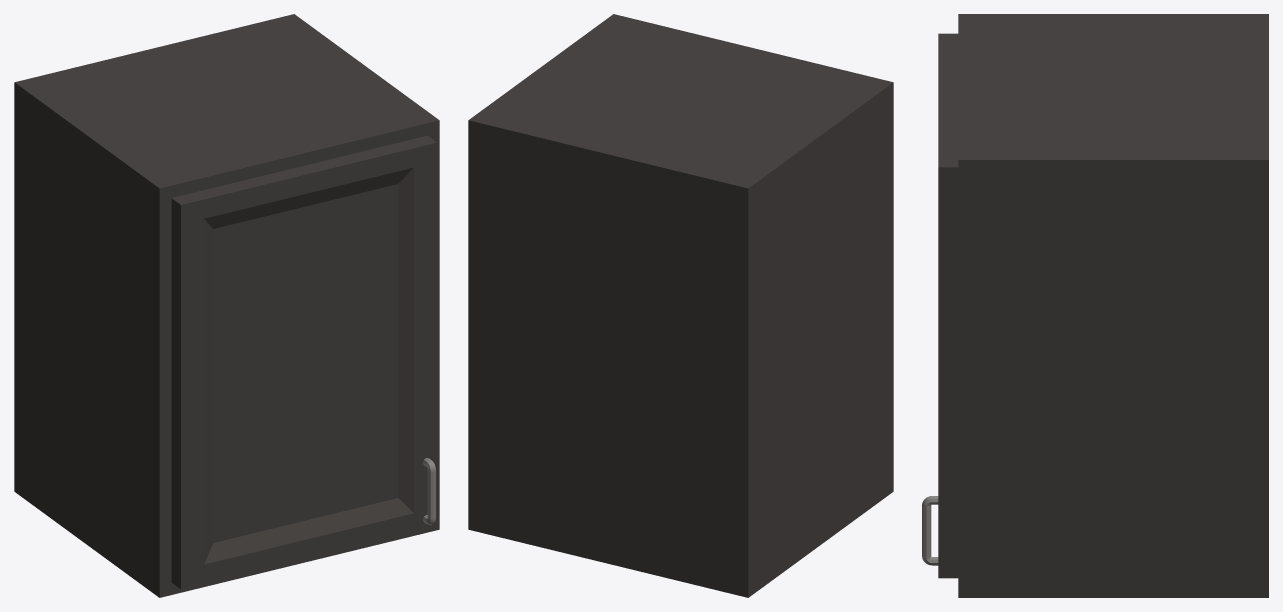
File: Kitchen Tabletop_12.fbx
3 renders of one model, left to right at view 1: azimuth 30°, elevation 25°; view 2: azimuth 150°, elevation 25°; view 3: azimuth 270°, elevation 25°, orthographic. The views are drawn at different scales.
Visible parts, largest first — view 1: Kitchen Tabletop_12; view 2: Kitchen Tabletop_12; view 3: Kitchen Tabletop_12.
Part boxes in pixels (left/top/right/bottom): Kitchen Tabletop_12: left=14, top=14, right=439, bottom=597; Kitchen Tabletop_12: left=468, top=14, right=893, bottom=597; Kitchen Tabletop_12: left=922, top=14, right=1268, bottom=597.
Bounding box in the file's own units: 42.95 × 60.04 × 43.1.
